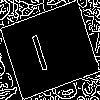I: (25, 24, 51, 73)
